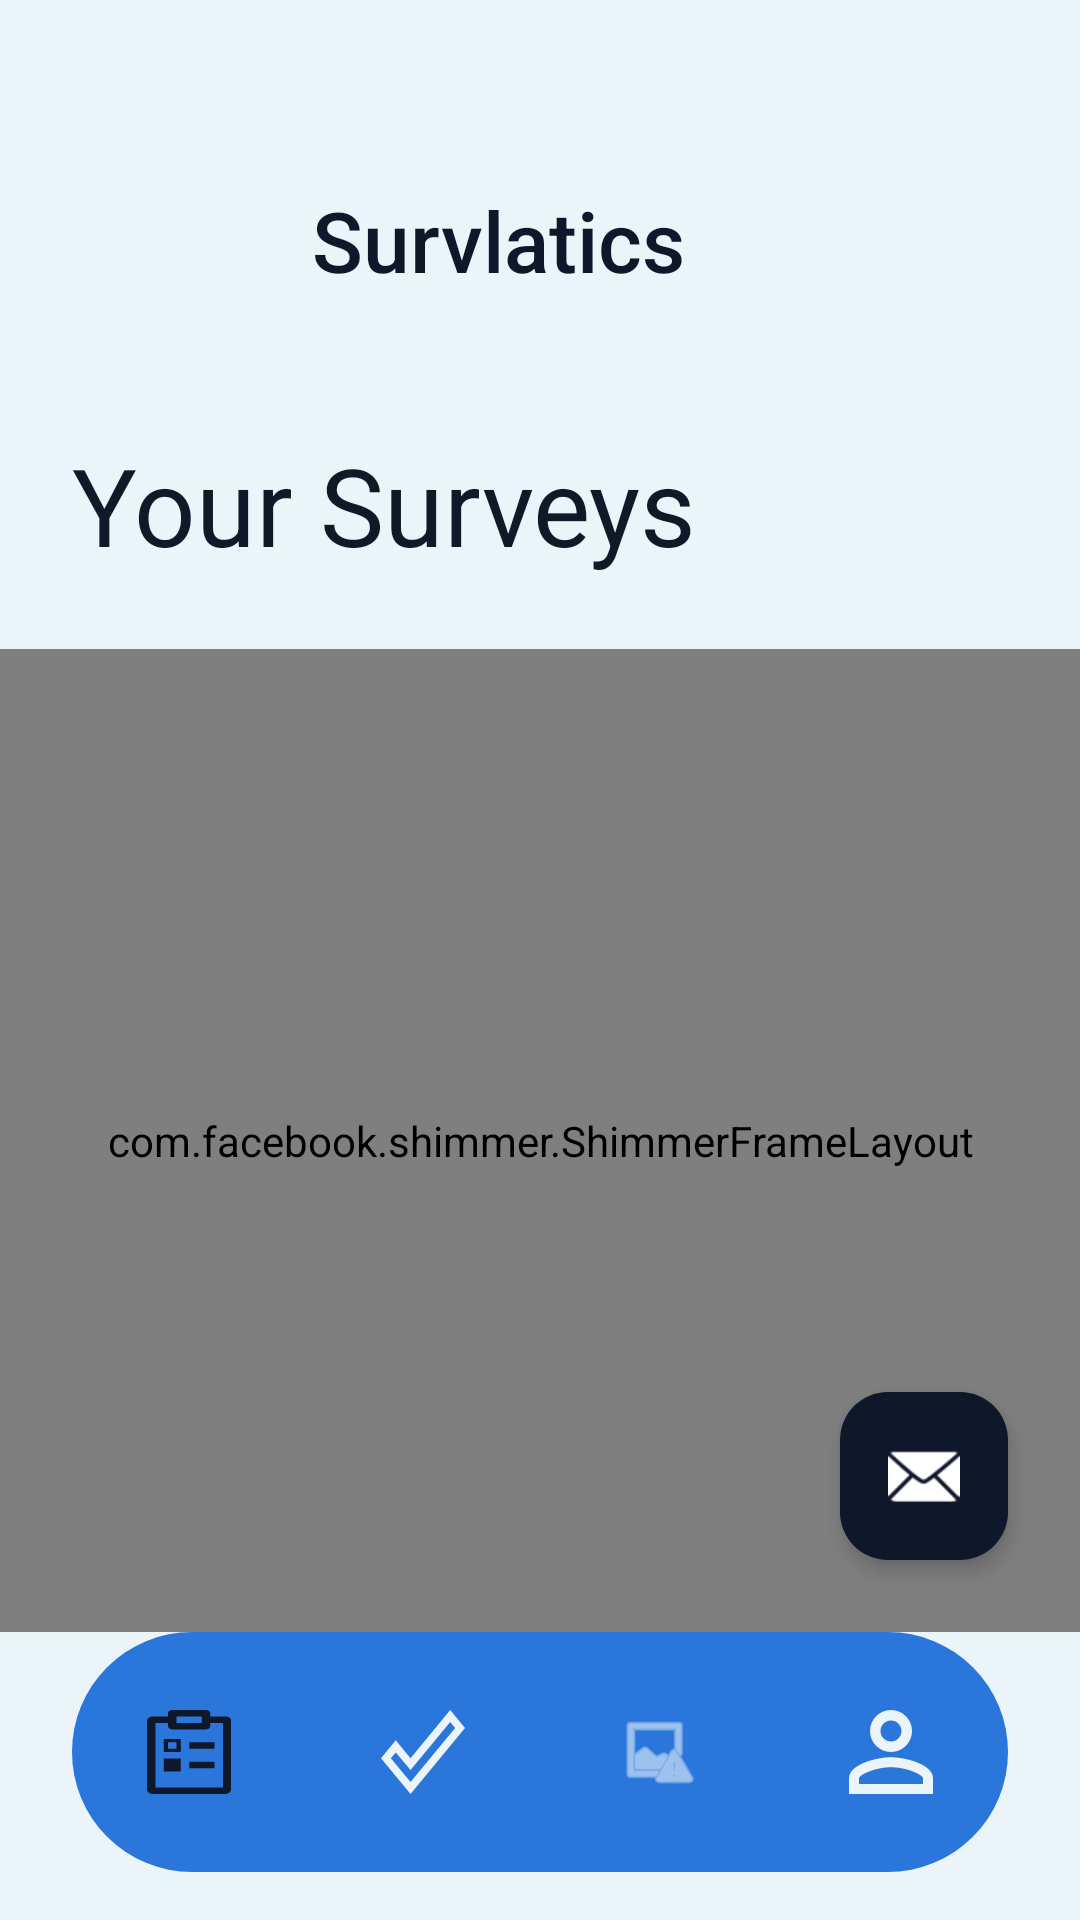

Screen size 1080*1920. Icon name, then its box in pixels as (x1, y1, x2, y2):
email: (840, 1392, 1008, 1560)
